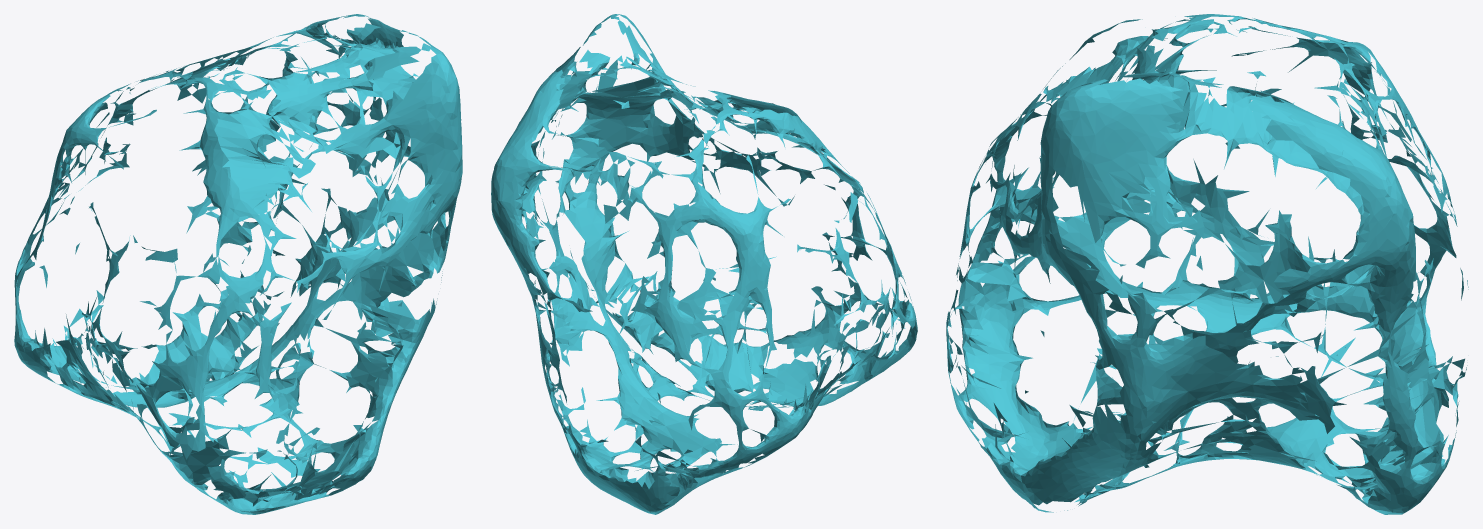
3 renders of one model, left to right at view 1: azimuth 30°, elevation 25°; view 2: azimuth 150°, elevation 25°; view 3: azimuth 270°, elevation 25°, orthographic. The views are drawn at different scales.
Visible parts, largest first — view 1: Renderer Node; view 2: Renderer Node; view 3: Renderer Node.
Part boxes in pixels (x1,y1,x2,y2): Renderer Node: (14,14,462,514); Renderer Node: (491,14,917,514); Renderer Node: (946,14,1468,514).
Size of the model in its own units: 0.5725 by 0.6511 by 0.6035.
1 material, 1 textured.
